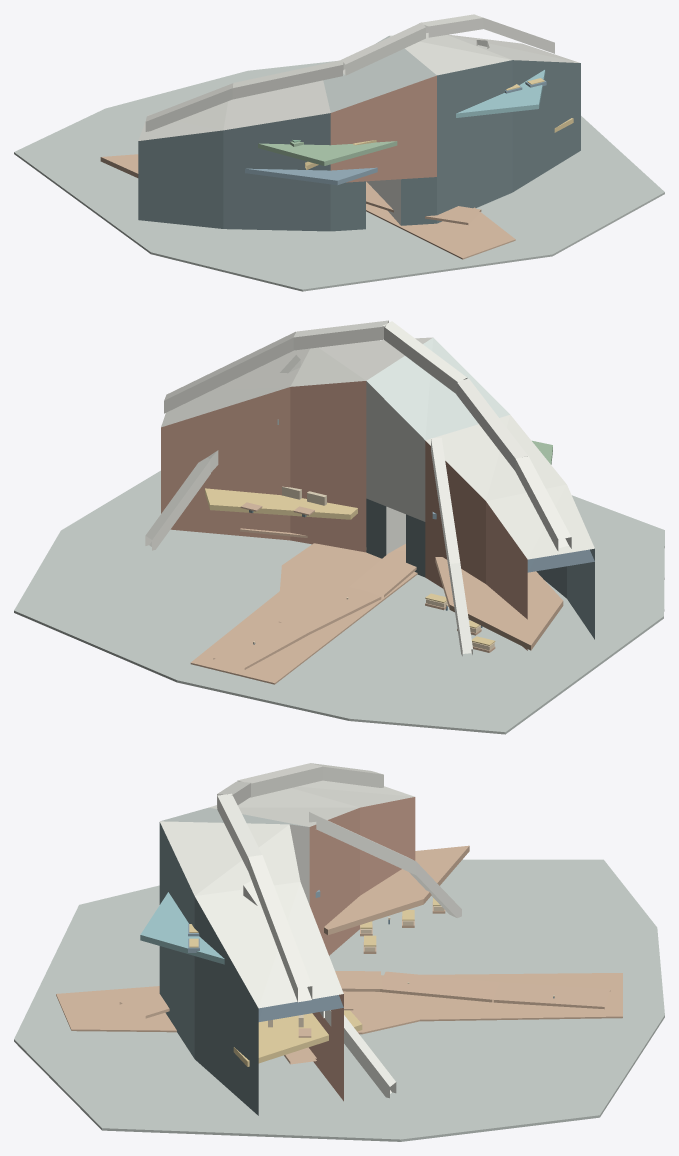
Rendered from a47_braided_civic_threshold.glb.
The picture shows the model from 3 angles, top to bottom: view 1: azimuth 30°, elevation 25°; view 2: azimuth 150°, elevation 25°; view 3: azimuth 270°, elevation 25°; orthographic projection. The views are drawn at different scales.
Bounding box in the file's own units: 173 × 65 × 170.
